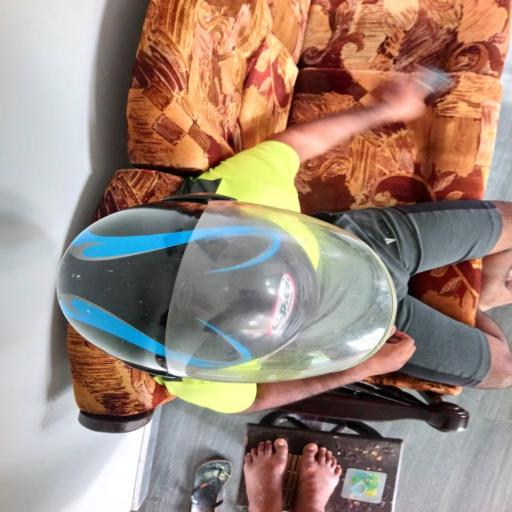with helmet: (54, 192, 398, 384)
